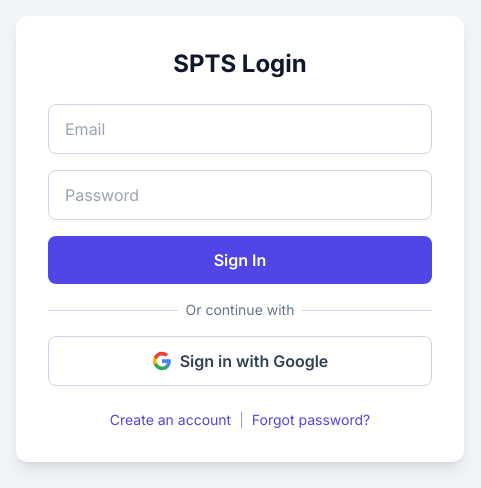
Test: Login › Email Login › should show loading state during login
Type "test@example.com" into the field with placeholder "Email".
click(240, 129); type("test@example.com")  # box [48,104,432,154]
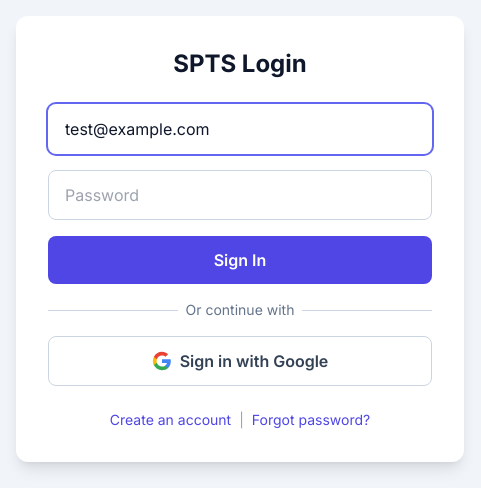
Type "password123" into the password field with placeholder "Password".
click(240, 195); type("password123")  # box [48,170,432,220]
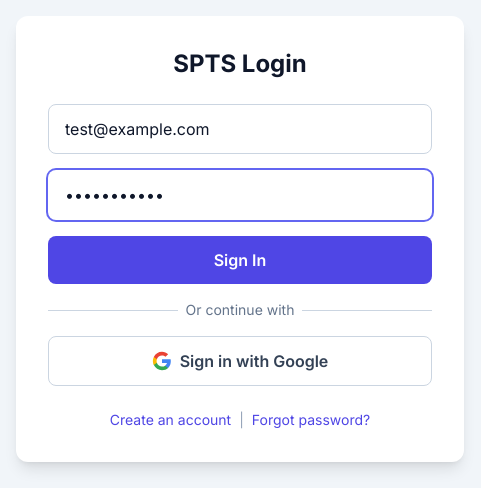
Click the button "Sign In".
click(240, 260)  # box [48,236,432,284]
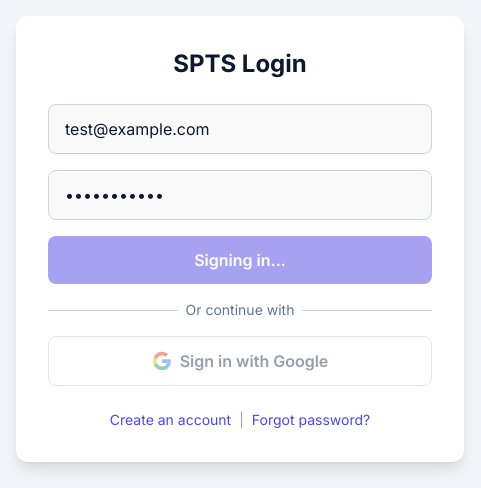
Check: the button "Signing in..." is disabled, box [48,236,432,284]
